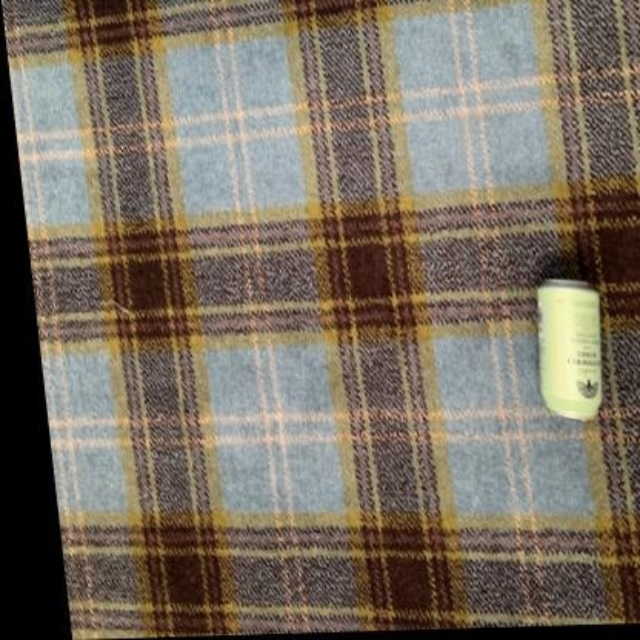trash: (537, 278, 600, 418)
